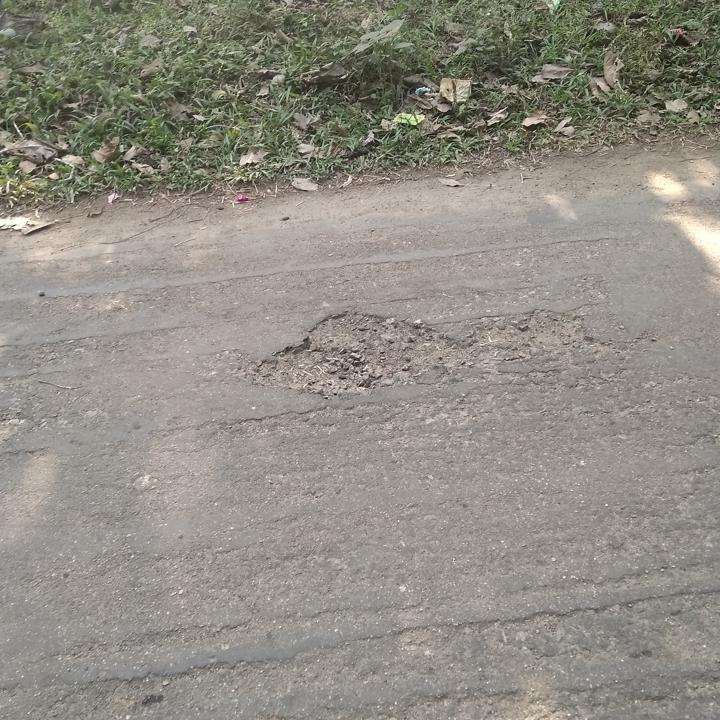pothole: (241, 303, 600, 397)
